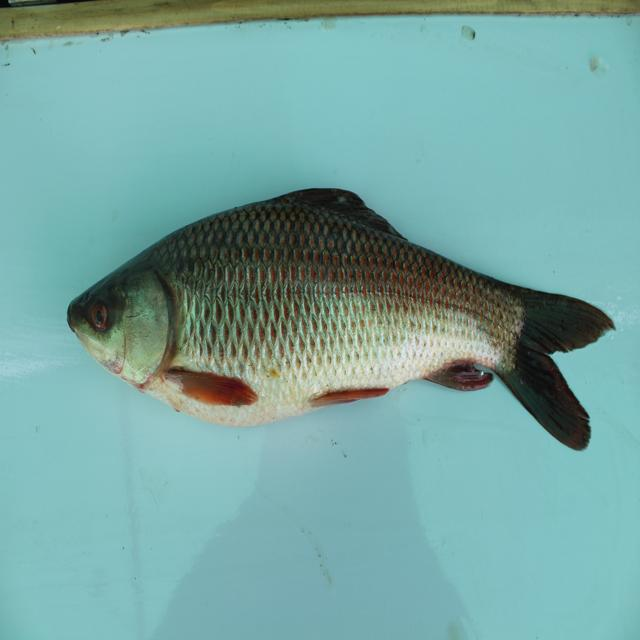Rohu: (52, 207, 618, 499)
